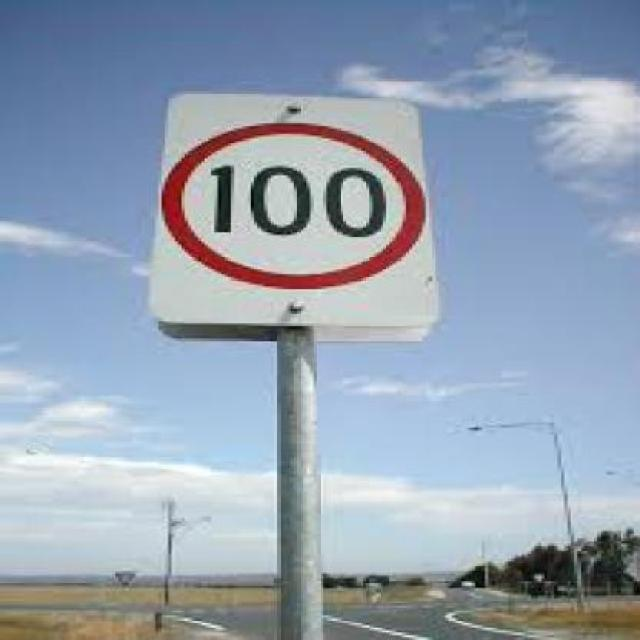forb_speed_over_100: (159, 124, 430, 287)
